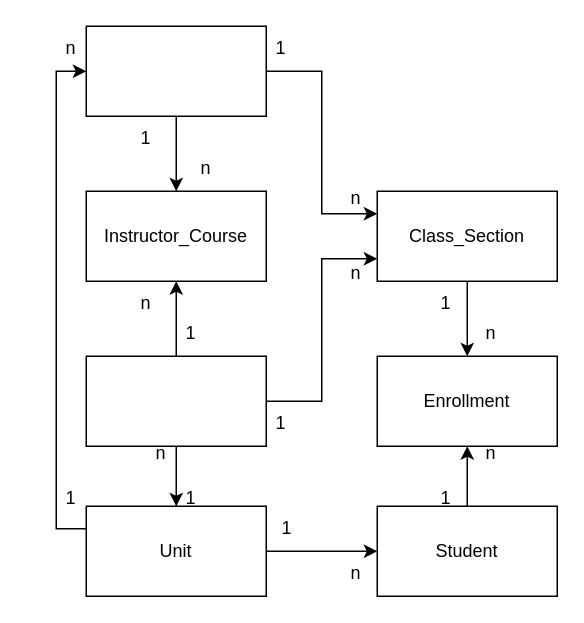
Image size: 584x623. Some labels were removed from this diagram. The box of each missing label's shape, as (x1, y1, x2, y2) in pixels:
Course: (85, 355, 266, 446)
Instructor: (85, 25, 266, 116)
